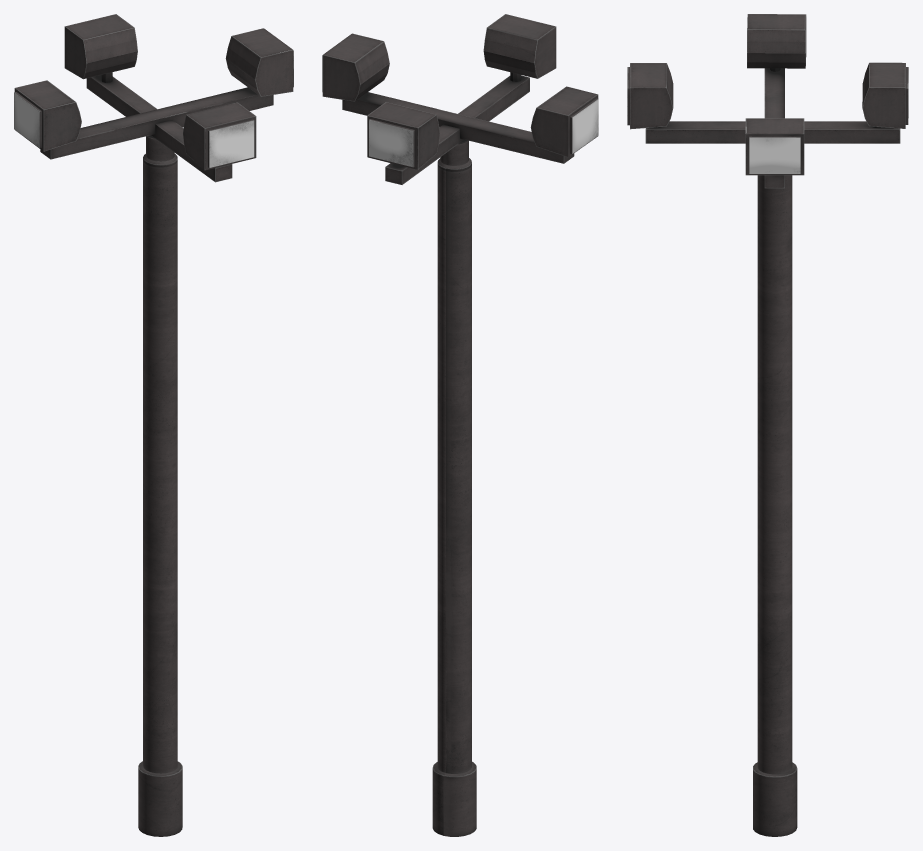
Rendered from lamp_itog.fbx.
3 views of the same model, side by side, from view 1: azimuth 30°, elevation 25°; view 2: azimuth 150°, elevation 25°; view 3: azimuth 270°, elevation 25° (orthographic).
Parts seen in each view (by area): view 1: Cylinder.001; view 2: Cylinder.001; view 3: Cylinder.001.
Boxes of the visible parts, box(x1,y1,x2,y2) form: Cylinder.001: box(14, 14, 293, 836); Cylinder.001: box(322, 14, 598, 836); Cylinder.001: box(627, 14, 908, 836).
Bounding box in the file's own units: 211 × 604 × 205.
